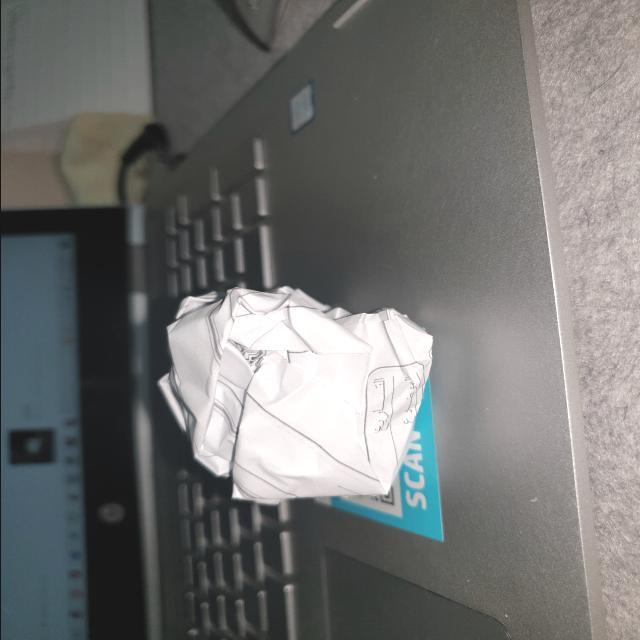Paper: (146, 284, 435, 512)
